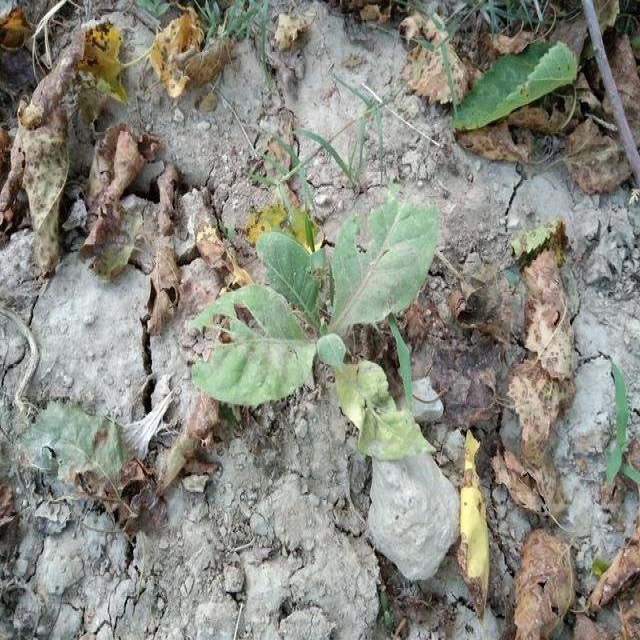crop: (194, 196, 439, 461)
